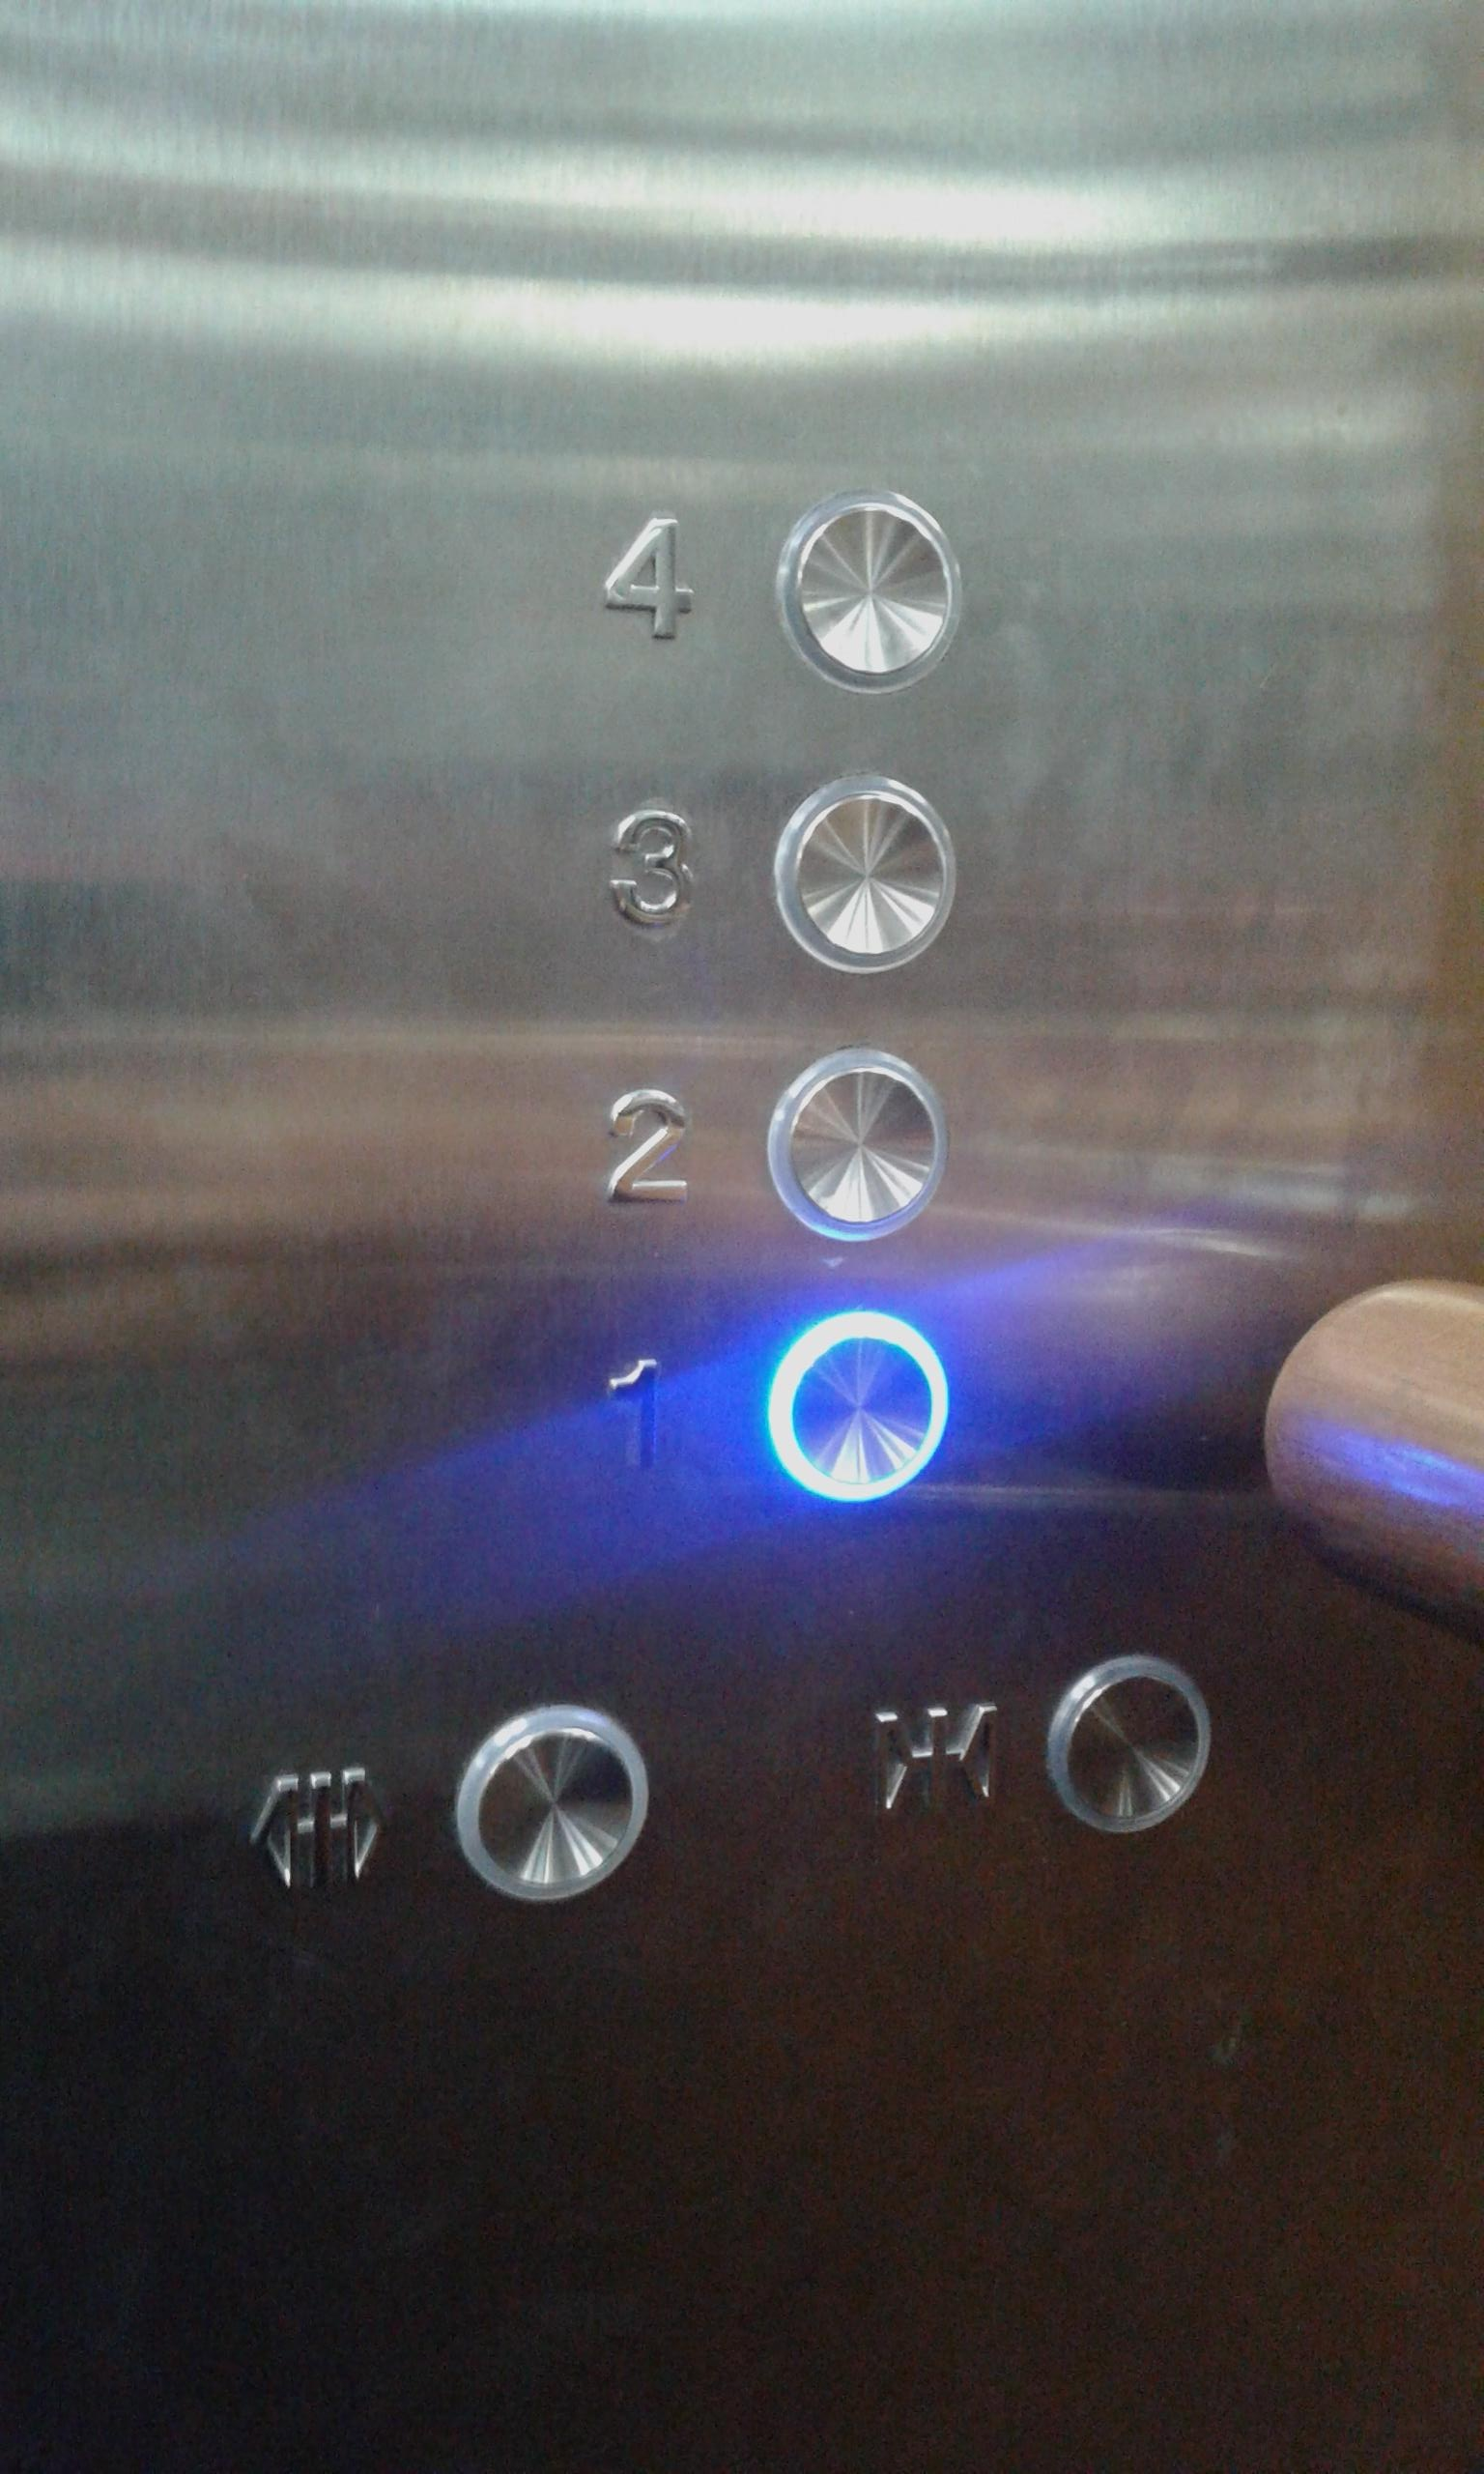1: (569, 1295, 972, 1525)
2: (569, 1034, 970, 1262)
3: (574, 756, 977, 984)
4: (574, 465, 979, 705)
close: (841, 1633, 1228, 1870)
open: (235, 1693, 670, 1933)
